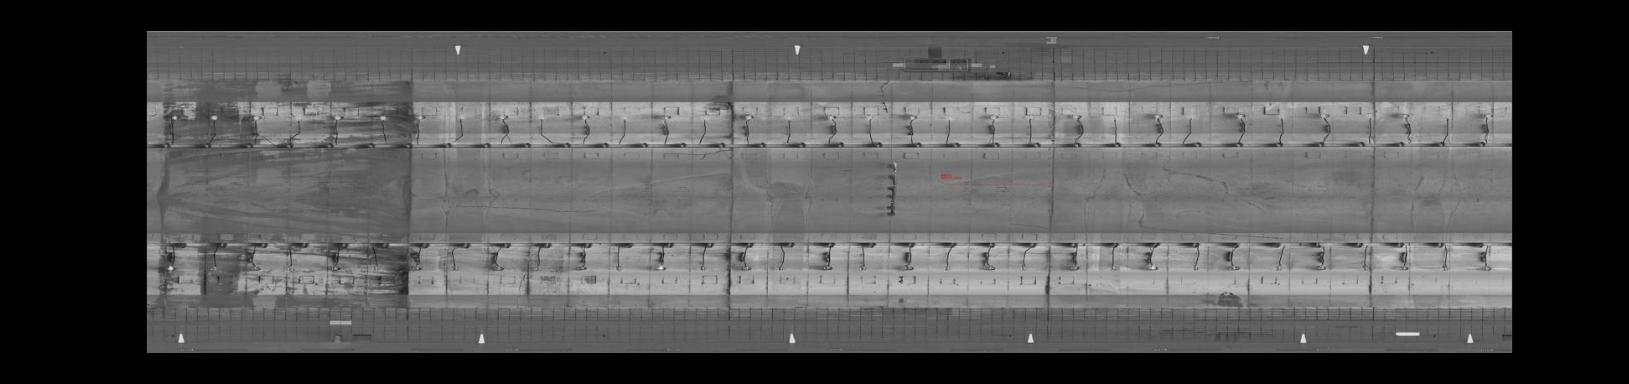light: (977, 260, 996, 274), (249, 109, 266, 124), (496, 111, 514, 124), (406, 262, 425, 274), (1319, 109, 1335, 124), (1150, 109, 1166, 124), (899, 263, 919, 273), (326, 263, 345, 274), (1143, 262, 1161, 273), (1234, 109, 1250, 122), (576, 110, 591, 124), (290, 111, 306, 124), (164, 262, 181, 274), (575, 262, 591, 274), (1022, 112, 1040, 124), (1399, 109, 1414, 122), (207, 110, 221, 124), (1014, 260, 1029, 274), (1359, 260, 1373, 274), (1275, 110, 1290, 122), (1109, 111, 1124, 124), (986, 111, 1005, 121), (205, 263, 225, 272), (330, 112, 347, 124), (284, 263, 300, 274), (487, 263, 504, 274), (741, 112, 758, 122), (695, 262, 710, 274), (938, 262, 953, 274), (1072, 111, 1088, 122), (455, 110, 471, 121), (854, 263, 870, 274), (905, 112, 922, 122), (246, 262, 263, 272), (1226, 263, 1243, 273), (1440, 111, 1453, 124), (1364, 111, 1378, 124), (944, 112, 959, 124), (413, 112, 428, 124), (1438, 263, 1452, 274), (1479, 263, 1494, 274), (1270, 263, 1287, 272), (1187, 262, 1203, 272), (446, 264, 462, 273), (820, 263, 836, 272), (1186, 111, 1200, 122), (698, 111, 712, 122), (167, 112, 181, 124), (368, 264, 382, 274), (611, 263, 625, 273), (1397, 263, 1412, 273), (824, 113, 842, 121), (1067, 263, 1083, 272), (532, 263, 544, 274), (1483, 111, 1496, 121), (1314, 263, 1328, 273), (617, 114, 632, 124), (653, 264, 668, 273), (773, 265, 787, 274), (536, 112, 549, 122), (376, 114, 392, 122), (741, 263, 754, 272), (659, 112, 673, 120), (1105, 264, 1120, 272), (865, 111, 876, 122), (784, 114, 796, 124)
